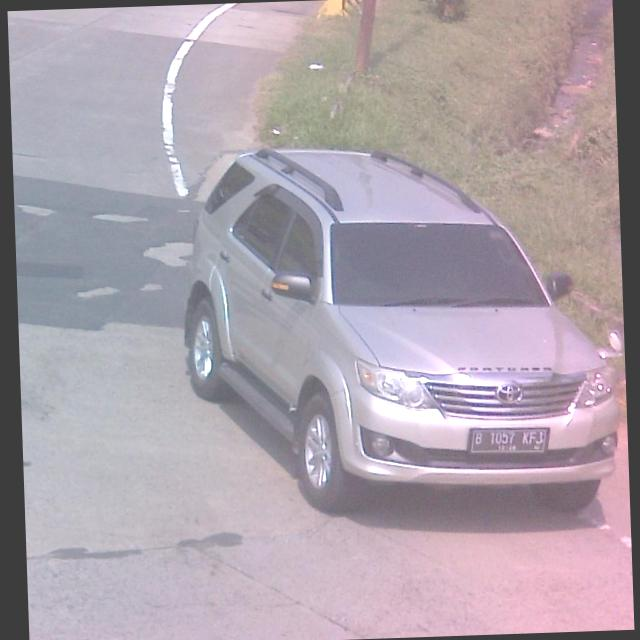plate: (468, 422, 552, 458)
